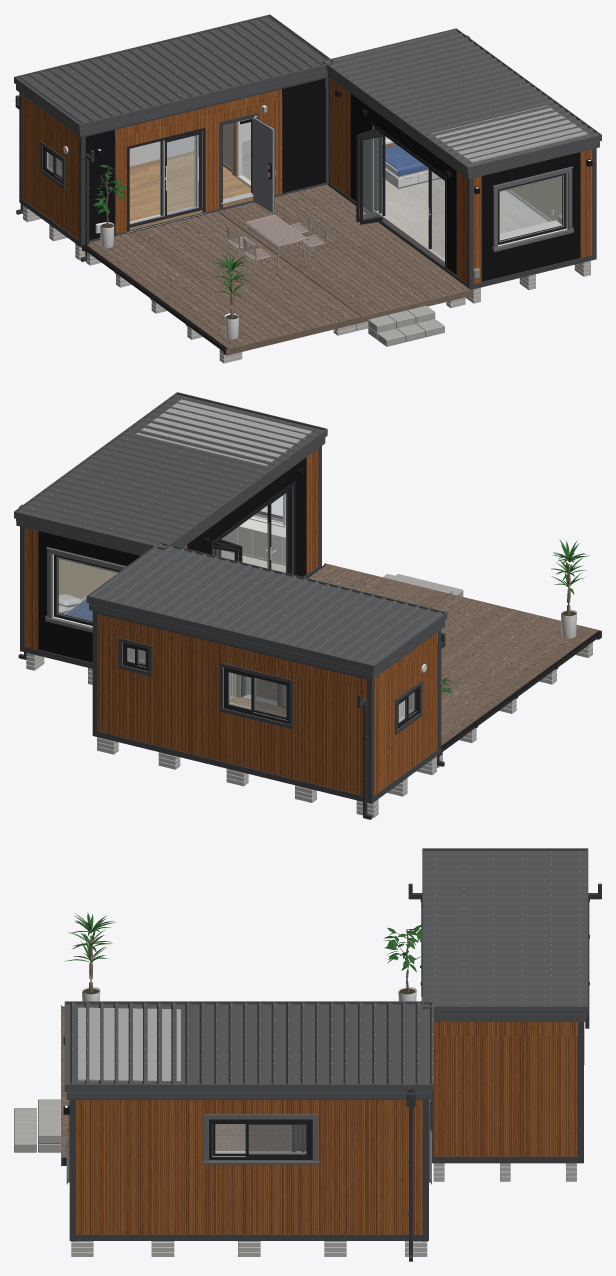
Rendered from twin-10-L.glb.
3 views of the same model, one above another, from view 1: azimuth 30°, elevation 25°; view 2: azimuth 150°, elevation 25°; view 3: azimuth 270°, elevation 25° (orthographic). The views are drawn at different scales.
Visible parts, largest first — view 1: 지붕_TD_RoofSheetSilver, TD_DeckEmboss, TD_BlackSiding, TD_WoodSiding, TD_GlassFix, TD_TrimGray, TD_FloorGray, TD_A_FloorWood, 지붕_TD_RoofCorrugated, TD_FrameBlack, TD_FurnTaupe, TD_SplitBlock (+18 smaller); view 2: 지붕_TD_RoofSheetSilver, TD_WoodSiding, TD_DeckEmboss, TD_TrimGray, TD_BlackSiding, TD_GlassFix, 지붕_TD_RoofCorrugated, 지붕_TD_WoodSiding, TD_SplitBlock, TD_FrameBlack, TD_WinFrame, TD_IntPanelBeige (+10 smaller); view 3: 지붕_TD_RoofSheetSilver, TD_WoodSiding, TD_TrimGray, 지붕_TD_RoofCorrugated, TD_DeckEmboss, TD_GlassFix, TD_SplitBlock, TD_StepBlock, TD_WinSurround, TD_FrameBlack, 지붕_TD_WoodSiding, TD_Screen (+2 smaller).
Part boxes in pixels (x1,y1,x2,y2): 지붕_TD_RoofSheetSilver: (14,14,601,179); TD_DeckEmboss: (85,184,473,355); TD_BlackSiding: (85,88,580,281); TD_WoodSiding: (22,78,592,283); TD_GlassFix: (46,135,561,258); TD_TrimGray: (19,77,596,289); TD_FloorGray: (373,177,548,266); TD_A_FloorWood: (129,154,252,230); 지붕_TD_RoofCorrugated: (431,105,587,162); TD_FrameBlack: (356,123,566,268); TD_FurnTaupe: (226,207,327,278); TD_SplitBlock: (23,205,590,363); 지붕_TD_RoofSheetSilver: (14,392,447,679); TD_WoodSiding: (24,448,437,795); TD_DeckEmboss: (256,563,601,745); TD_TrimGray: (20,446,441,803); TD_BlackSiding: (38,457,306,662); TD_GlassFix: (58,493,414,722); 지붕_TD_RoofCorrugated: (136,399,311,465); 지붕_TD_WoodSiding: (97,614,437,690); TD_SplitBlock: (26,642,592,817); TD_FrameBlack: (54,481,295,625); TD_WinFrame: (122,643,419,728); TD_IntPanelBeige: (58,485,293,599); 지붕_TD_RoofSheetSilver: (64,848,588,1099); TD_WoodSiding: (75,1036,577,1234); TD_TrimGray: (69,1022,584,1240); 지붕_TD_RoofCorrugated: (78,1007,180,1081); TD_DeckEmboss: (61,1005,300,1166); TD_GlassFix: (215,1124,305,1153); TD_SplitBlock: (71,1163,576,1256); TD_StepBlock: (14,1099,60,1152); TD_WinSurround: (66,1102,431,1184); TD_FrameBlack: (209,1119,312,1160); 지붕_TD_WoodSiding: (434,1022,577,1035); TD_Screen: (249,1125,305,1153).
Size of the model in its own units: 9.86 by 3.42 by 10.22.
Materials: 101 (14 with a texture image).
